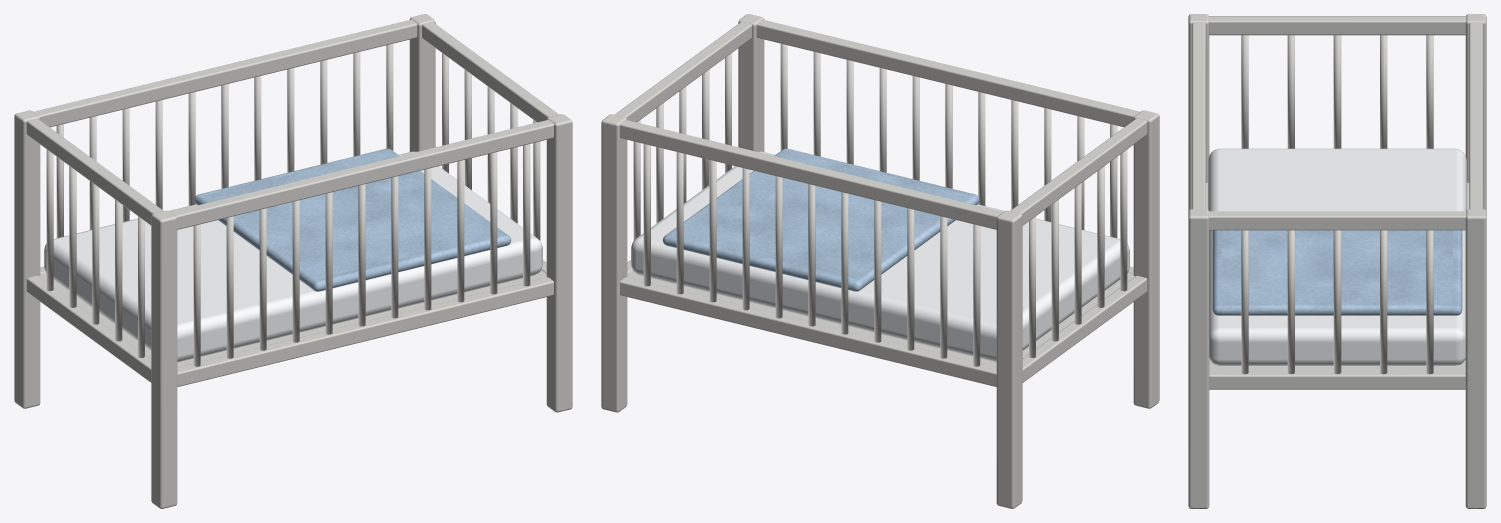
File: mueble.cuna.fbx
The picture shows the model from 3 angles, left to right: view 1: azimuth 30°, elevation 25°; view 2: azimuth 150°, elevation 25°; view 3: azimuth 270°, elevation 25°; orthographic projection.
Visible parts, largest first — view 1: Colchon, Mantita, Pilar.003, Baranda larga.003, Pilar.001, Baranda larga.002, Baranda larga.001, Pilar.002, Pilar, Baranda corta.003, Baranda corta.002, Baranda corta.001 (+31 smaller); view 2: Colchon, Mantita, Pilar.002, Baranda larga.002, Pilar, Baranda larga.003, Baranda larga, Pilar.003, Pilar.001, Baranda corta.003, Baranda corta.002, Baranda corta.001 (+31 smaller); view 3: Colchon, Mantita, Pilar, Pilar.001, Baranda corta.002, Baranda corta.003, Baranda corta, Baranda larga.002, Baranda larga.003, Pilar.002, Pilar.003, Base (+10 smaller).
Boxes of the visible parts, x1,y1,x2,y2 form: Colchon: (44,151,542,362); Mantita: (194,148,511,291); Pilar.003: (151,210,177,508); Baranda larga.003: (170,120,554,229); Pilar.001: (546,114,572,412); Baranda larga.002: (33,19,417,127); Baranda larga.001: (177,277,553,386); Pilar.002: (14,110,40,408); Pilar: (409,14,435,151); Baranda corta.003: (26,118,163,225); Baranda corta.002: (422,22,558,122); Baranda corta.001: (26,276,151,382); Colchon: (631,151,1129,362); Mantita: (662,148,979,291); Pilar.002: (996,210,1022,508); Baranda larga.002: (619,120,1003,229); Pilar: (601,114,627,412); Baranda larga.003: (756,19,1140,127); Baranda larga: (620,277,996,386); Pilar.003: (1133,110,1159,408); Pilar.001: (738,14,764,151); Baranda corta.003: (1010,118,1147,225); Baranda corta.002: (615,22,751,122); Baranda corta.001: (1022,276,1147,382); Colchon: (1208,148,1466,365); Mantita: (1212,230,1462,315); Pilar: (1465,209,1486,508); Pilar.001: (1188,209,1209,508); Baranda corta.002: (1208,211,1466,230); Baranda corta.003: (1208,16,1466,35); Baranda corta: (1209,370,1465,389); Baranda larga.002: (1469,22,1482,209); Baranda larga.003: (1192,22,1205,209); Pilar.002: (1465,14,1486,211); Pilar.003: (1188,14,1209,211); Base: (1205,182,1469,370).
Size of the model in its own units: 1.05 by 0.7 by 0.645.
Materials: 3 (1 with a texture image).
